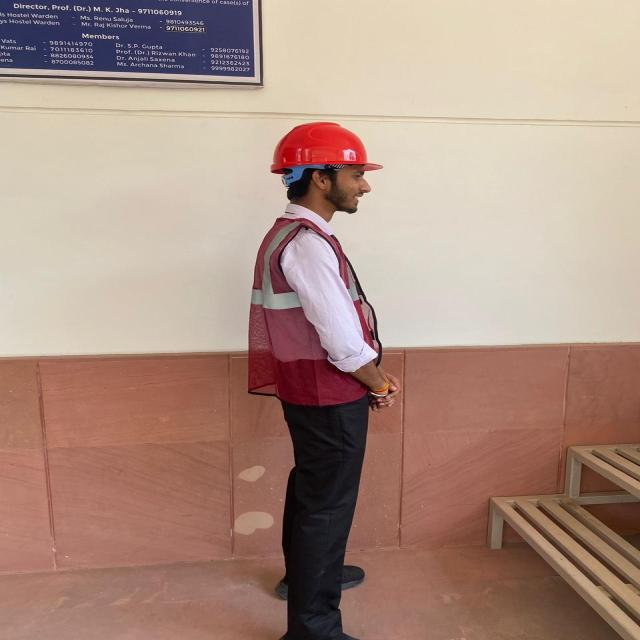safe: (248, 121, 383, 640)
